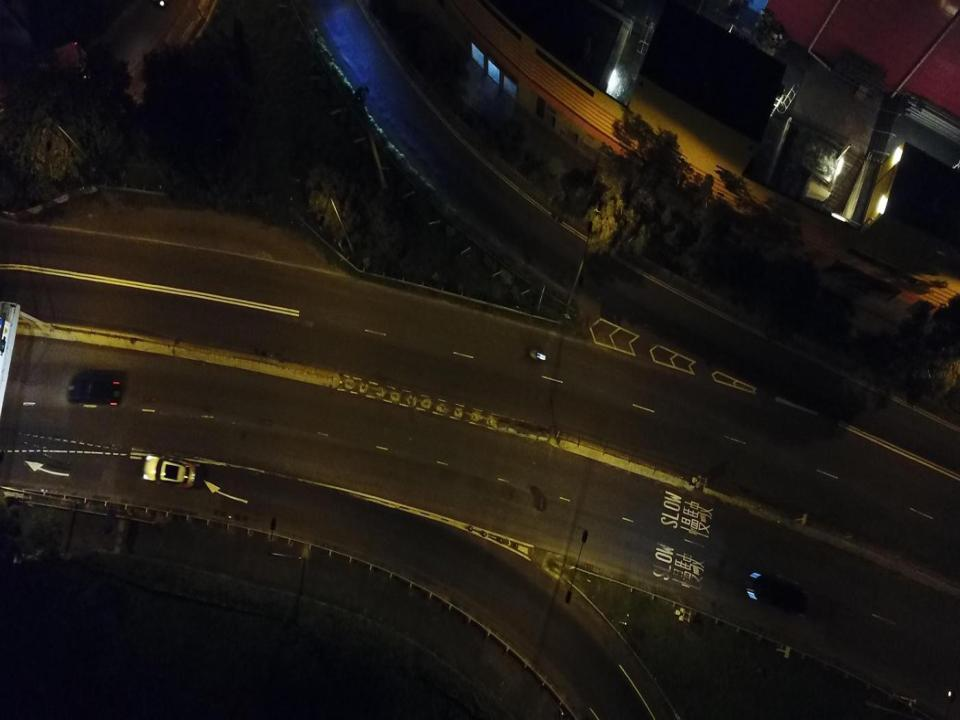car: (745, 571, 803, 618), (68, 376, 122, 411), (141, 455, 196, 486)
